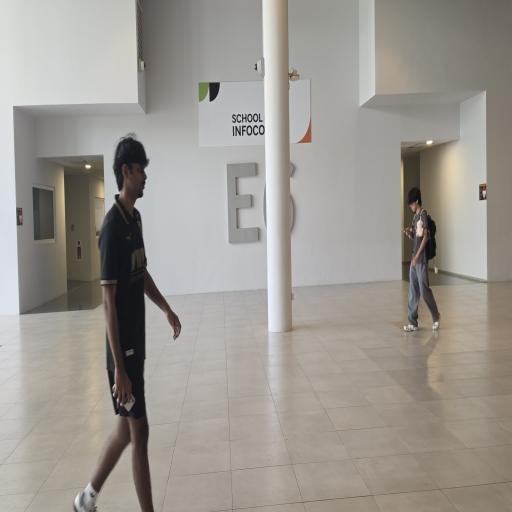person_left: (396, 173, 448, 346)
person_right: (79, 118, 182, 512)
